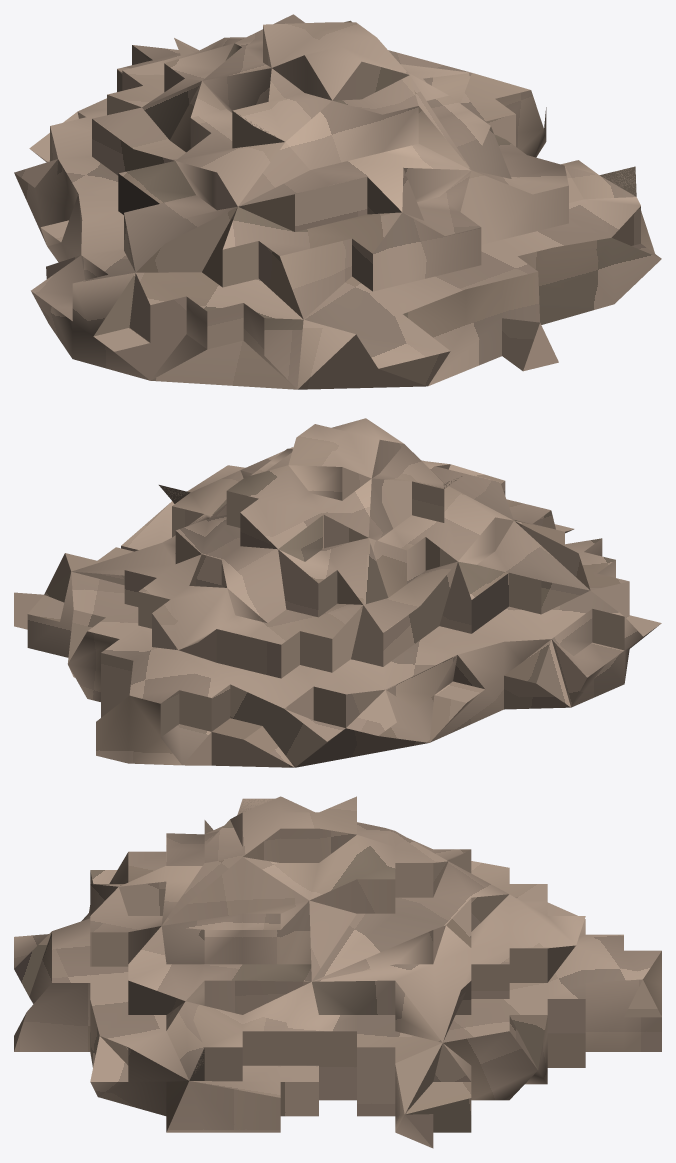
Rendered from stone1_corr.obj.
The picture shows the model from 3 angles, top to bottom: view 1: azimuth 30°, elevation 25°; view 2: azimuth 150°, elevation 25°; view 3: azimuth 270°, elevation 25°; orthographic projection. The views are drawn at different scales.
Parts seen in each view (by area): view 1: stone1; view 2: stone1; view 3: stone1.
Part boxes in pixels (box(x1,y1,x2,y2)): stone1: box(14, 14, 661, 389); stone1: box(14, 418, 661, 767); stone1: box(14, 796, 661, 1148).
Size of the model in its own units: 1.25 by 0.468 by 1.33.
